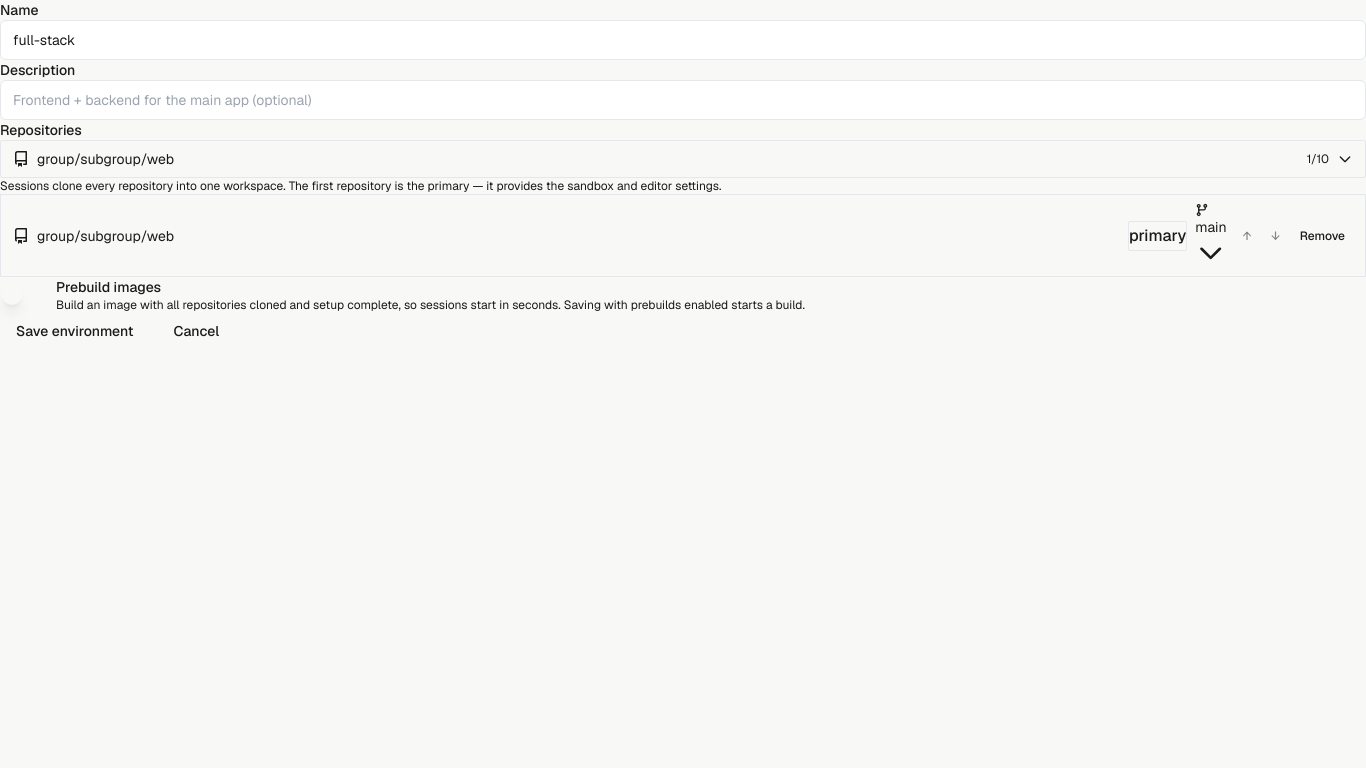
EnvironmentForm › blocks selecting a repository whose name collides with a selected one
Step 1. Click the button with aria-label "Repository selection" → (106, 159), box left=0, top=140, right=1365, bottom=178
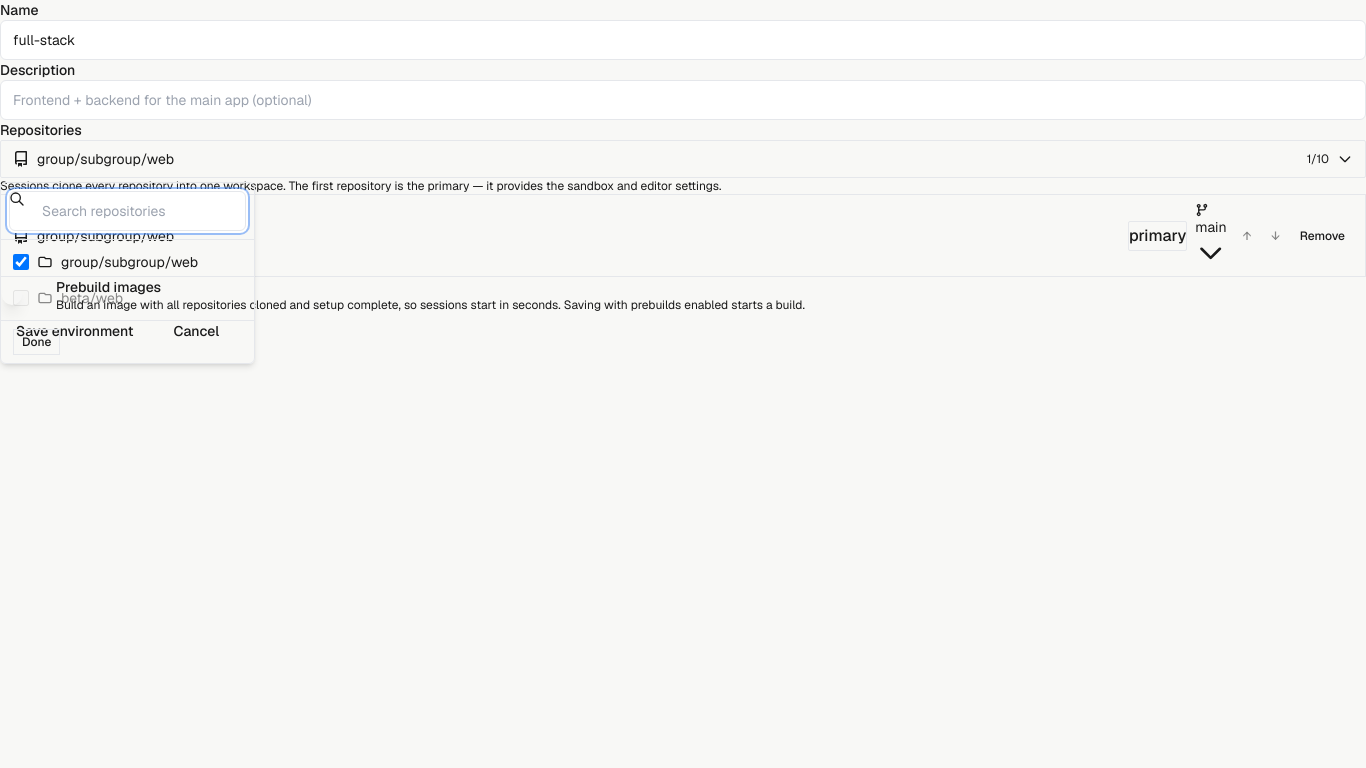
Check: the checkbox labelled "beta/web" is disabled, box left=13, top=290, right=29, bottom=306
Check: the checkbox labelled "group/subgroup/web" is enabled, box left=13, top=254, right=29, bottom=270
